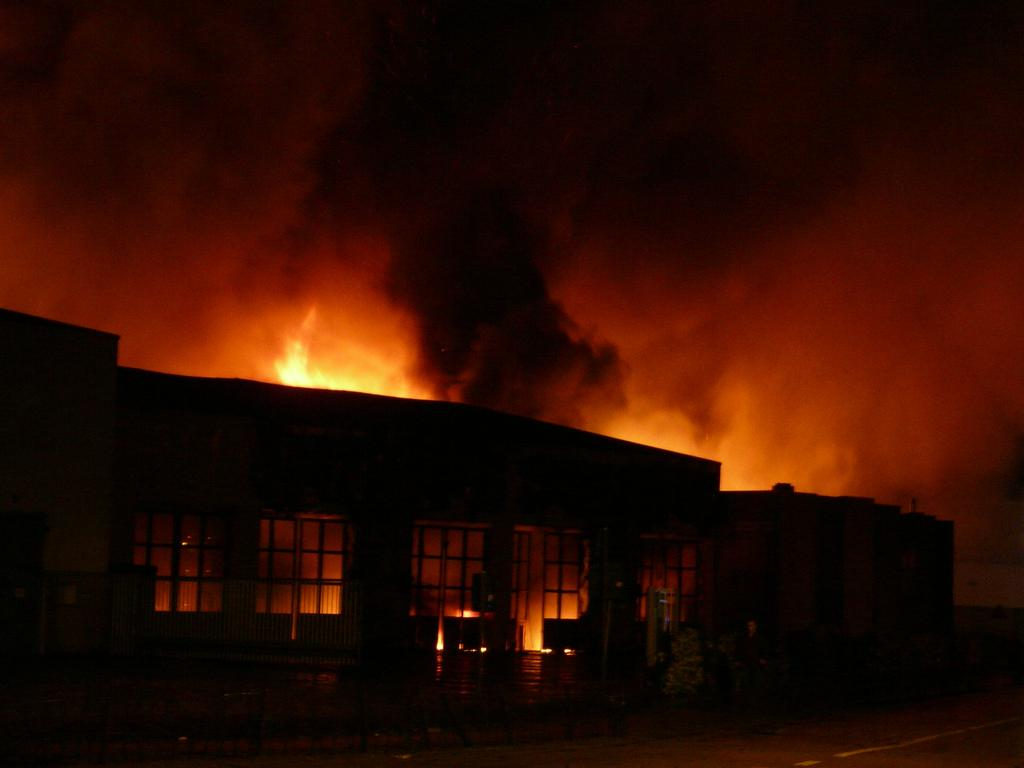fire: (684, 388, 776, 494), (268, 340, 348, 396)
smoke: (378, 138, 574, 350)
